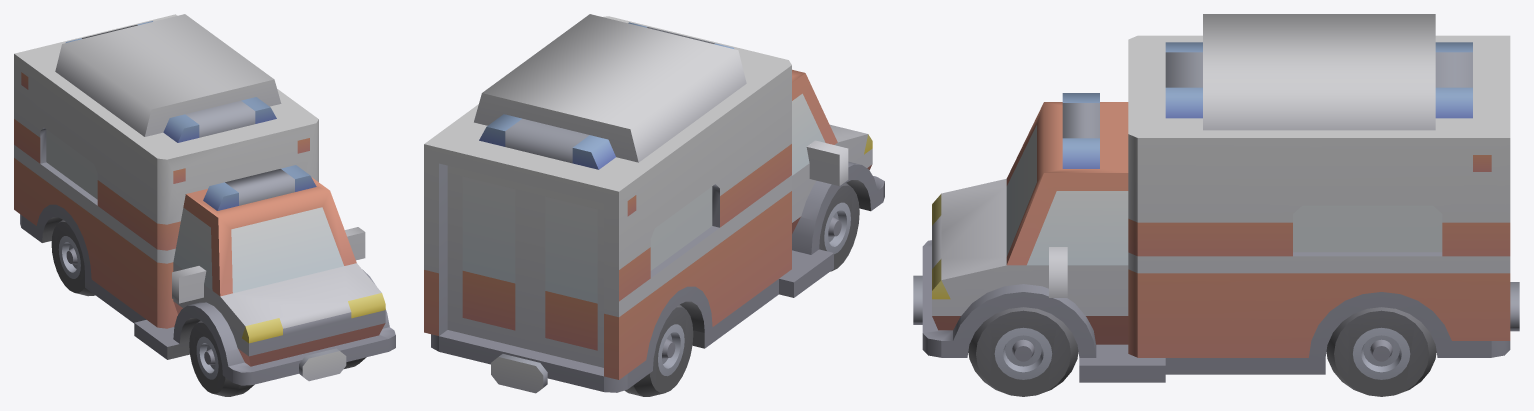
The model's file is ambulance.glb.
The picture shows the model from 3 angles, left to right: view 1: azimuth 30°, elevation 25°; view 2: azimuth 150°, elevation 25°; view 3: azimuth 270°, elevation 25°; orthographic projection. The views are drawn at different scales.
Parts seen in each view (by area): view 1: ambulance; view 2: ambulance; view 3: ambulance.
Boxes of the visible parts, bbox=[...] form: ambulance: bbox=[14, 14, 395, 396]; ambulance: bbox=[424, 14, 884, 396]; ambulance: bbox=[913, 14, 1519, 396].
Bounding box in the file's own units: 1.5 × 1.8 × 3.25.
